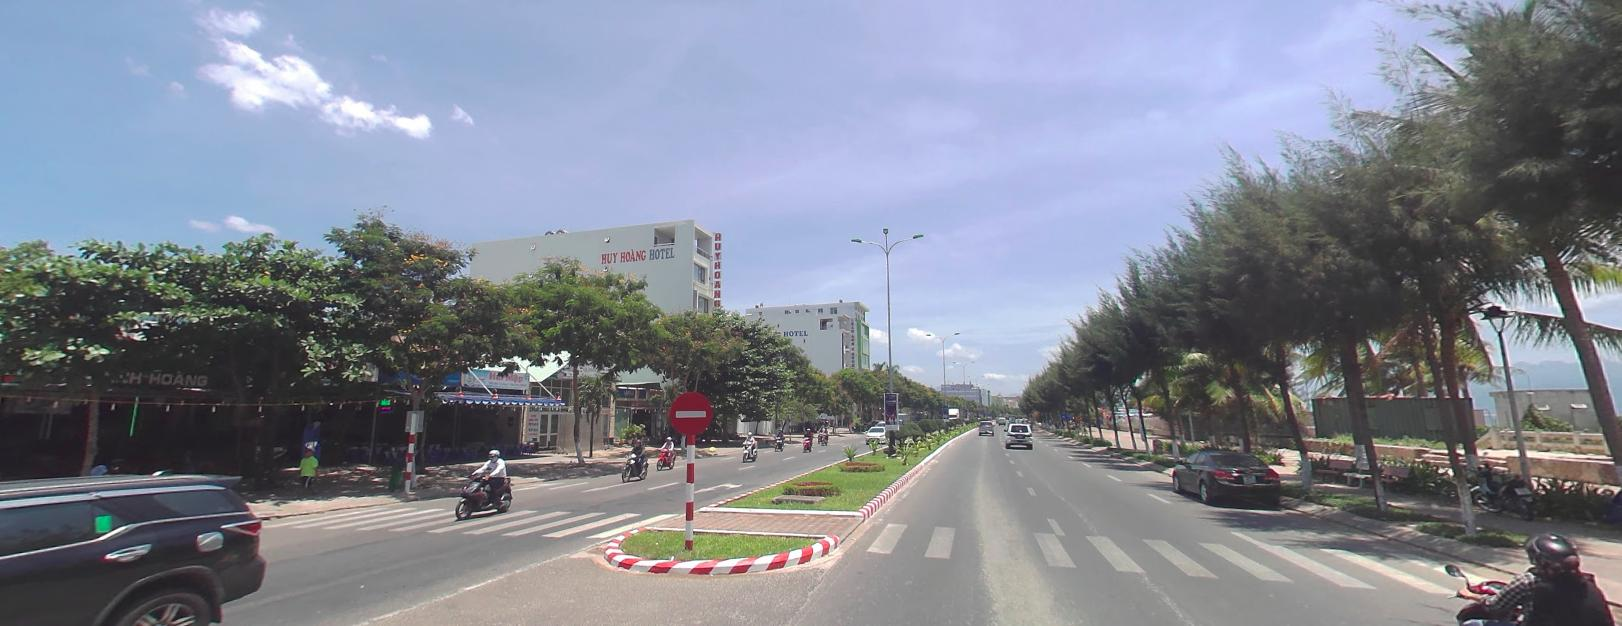Cam nguoc chieu: (668, 391, 714, 434)
